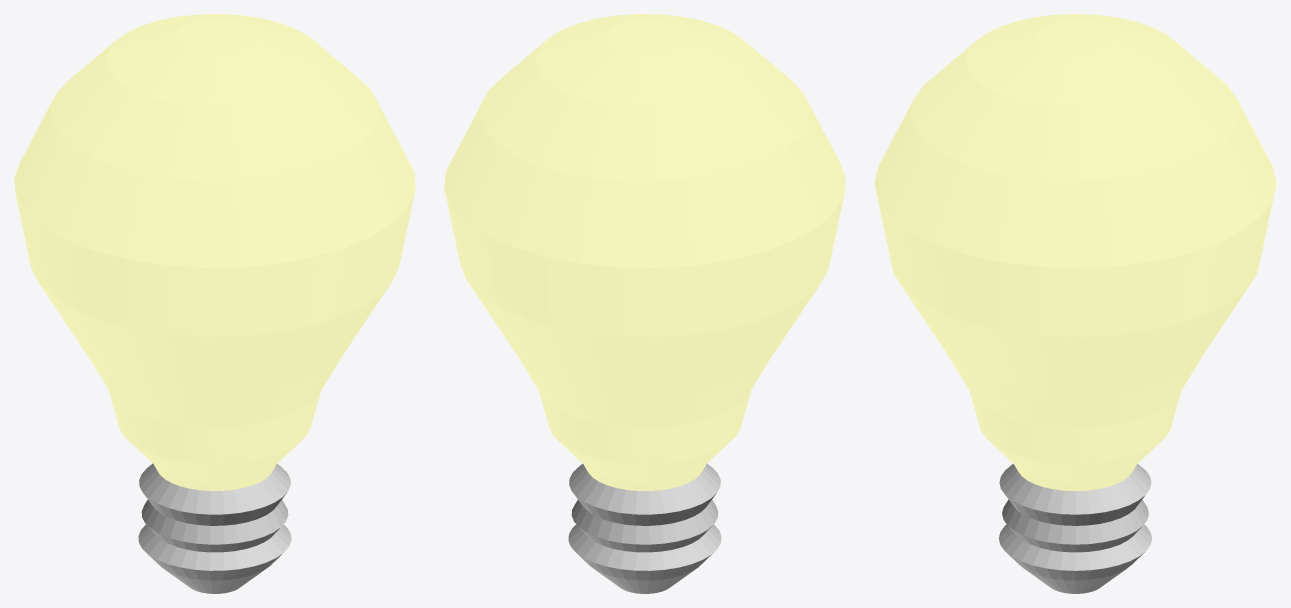
The model's file is lightbulb2.glb.
3 renders of one model, left to right at view 1: azimuth 30°, elevation 25°; view 2: azimuth 150°, elevation 25°; view 3: azimuth 270°, elevation 25°, orthographic.
Parts seen in each view (by area): view 1: Circle; view 2: Circle; view 3: Circle.
Part boxes in pixels (left/top/right/bottom): Circle: left=14, top=14, right=415, bottom=593; Circle: left=444, top=14, right=845, bottom=593; Circle: left=874, top=14, right=1276, bottom=593.
Size of the model in its own units: 3.33 by 4.99 by 3.33.
